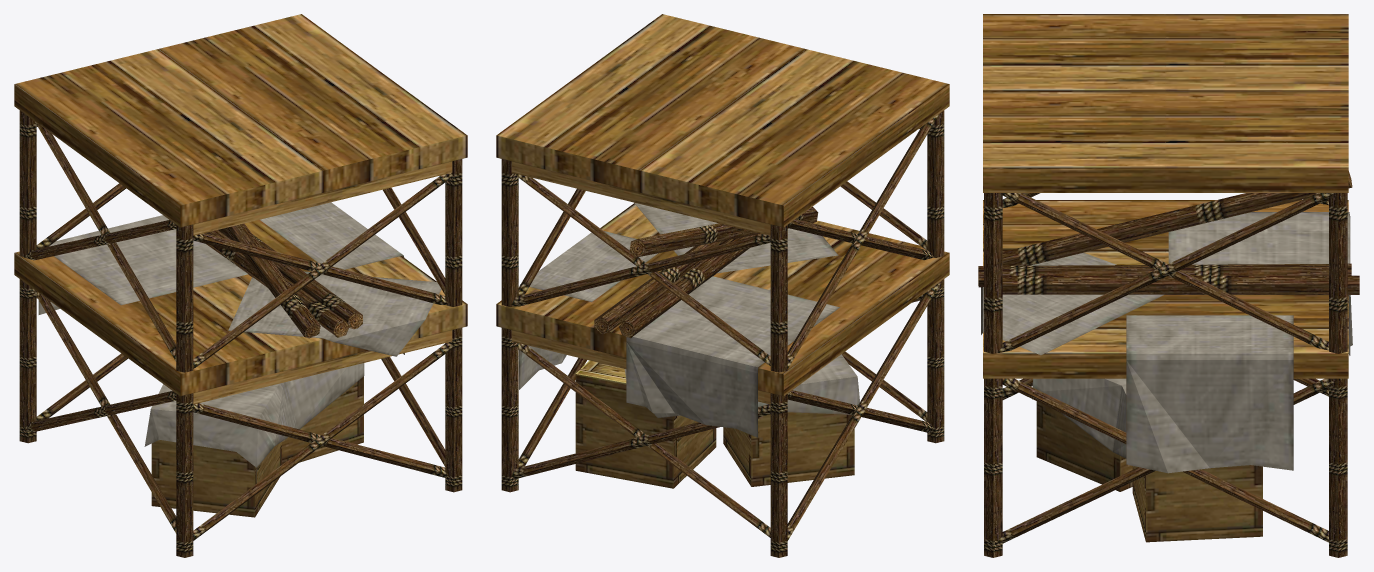
Rendered from tower_01.dae.
3 views of the same model, side by side, from view 1: azimuth 30°, elevation 25°; view 2: azimuth 150°, elevation 25°; view 3: azimuth 270°, elevation 25° (orthographic). The views are drawn at different scales.
Parts seen in each view (by area): view 1: tower_01; view 2: tower_01; view 3: tower_01.
Boxes of the visible parts, <box> form: tower_01: <box>14,14,467,557</box>; tower_01: <box>496,14,949,557</box>; tower_01: <box>978,14,1359,557</box>.
Size of the model in its own units: 1.38 by 1.41 by 1.59.
Materials: 1 (1 with a texture image).
